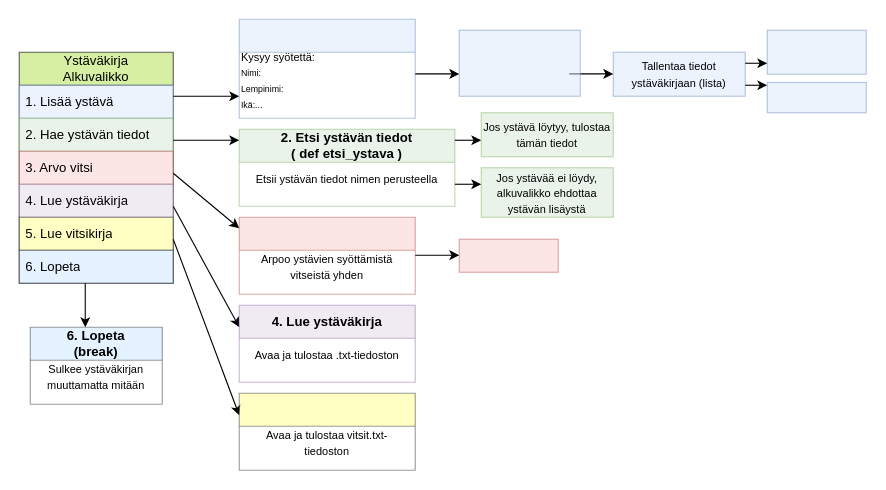
This 886x490 diagram has some shape labels left out. The box of each missing label's shape, as (x1, y1, x2, y2) in pixels:
1. Lisää ystävä ( def lisaa_ystava ): (238, 18, 415, 118)
3. Arvo vitsi ( def arvo_vitsi ): (238, 216, 415, 294)
5. Lue koko vitsikirja: (238, 392, 415, 470)
Palauttaa vitsin: (458, 238, 558, 272)
Tallentaa syötteet sanakirjaksi (jotta voidaan hakea avain/arvo): (458, 29, 580, 96)
Tallentaa vitsit txt-tiedostoon: (766, 81, 866, 113)
Tallentaa ystävät vastauksineen .txt-tiedostoon: (766, 29, 866, 74)
